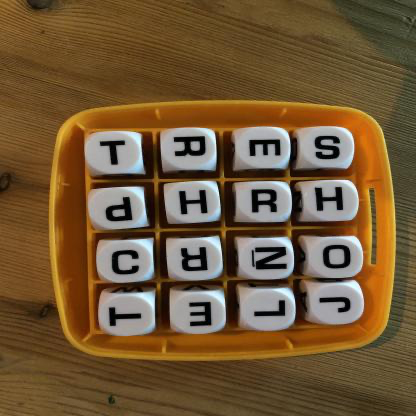c: (100, 242, 157, 282)
e: (171, 291, 226, 335), (236, 130, 291, 167)
h: (166, 183, 224, 225), (304, 182, 358, 223)
j: (311, 284, 367, 326)
l: (241, 292, 297, 330)
n: (240, 240, 293, 278)
o: (302, 237, 363, 278)
p: (90, 189, 150, 229)
r: (163, 130, 219, 171), (168, 240, 223, 281), (239, 182, 293, 221)
s: (301, 129, 353, 170)
t: (87, 133, 147, 176), (100, 295, 157, 334)
